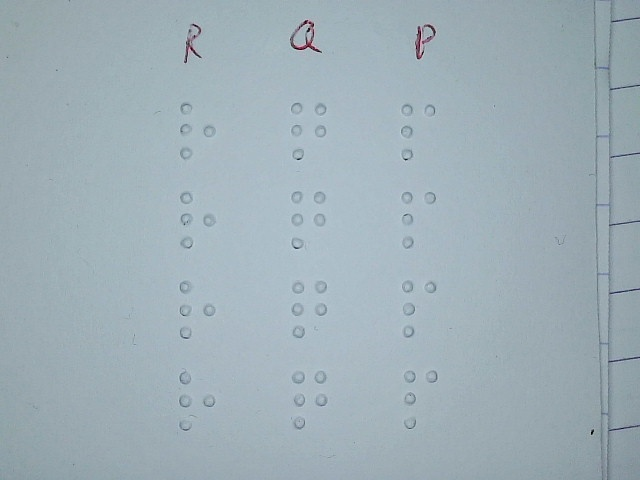P: (398, 101, 439, 162), (398, 188, 439, 249), (399, 277, 440, 338), (400, 368, 441, 429)
Q: (288, 100, 329, 161), (288, 188, 329, 249), (289, 278, 330, 339), (290, 368, 331, 429)
R: (177, 100, 218, 161), (177, 189, 218, 250), (176, 278, 217, 339), (176, 370, 217, 431)
